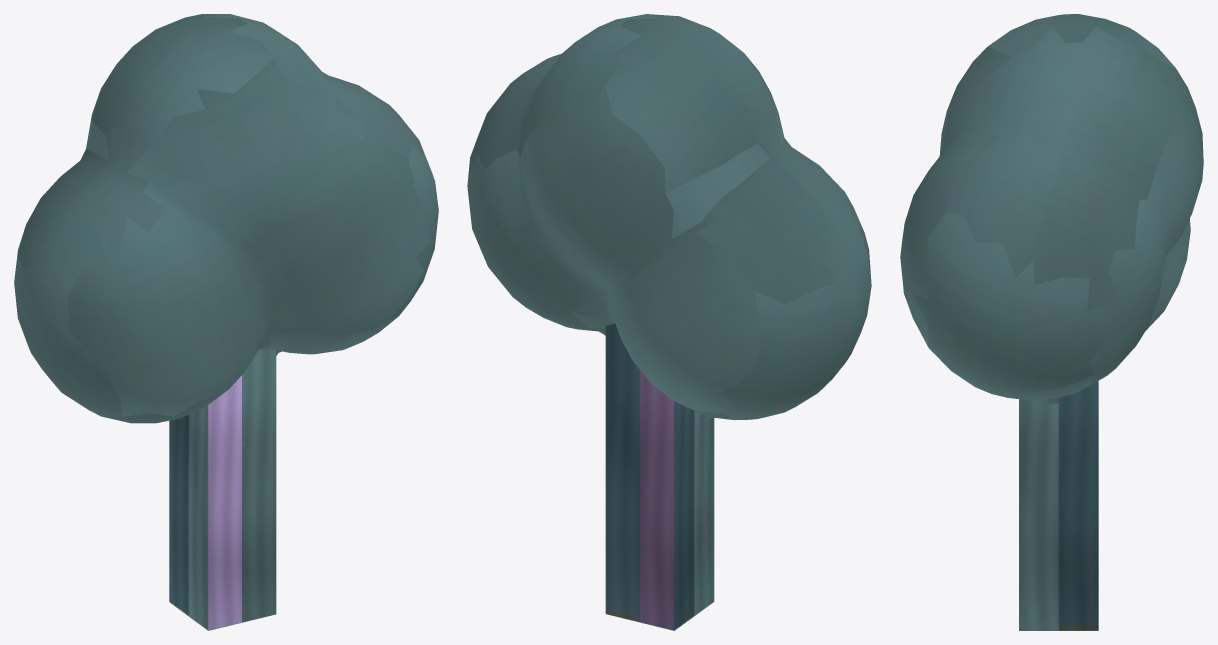
Rendered from tree_crooked_b.glb.
3 views of the same model, side by side, from view 1: azimuth 30°, elevation 25°; view 2: azimuth 150°, elevation 25°; view 3: azimuth 270°, elevation 25° (orthographic).
Parts seen in each view (by area): view 1: lod0, col; view 2: lod0, col; view 3: lod0, col.
Boxes of the visible parts, x1,y1,x2,y2 form: lod0: (14, 14, 438, 423); col: (169, 348, 276, 630); lod0: (467, 14, 871, 420); col: (605, 323, 714, 630); lod0: (900, 14, 1203, 404); col: (1019, 381, 1098, 630).
Size of what is drawn, in the model's own units: 3.32 by 4.88 by 2.28.
Materials: 2 (2 with a texture image).
